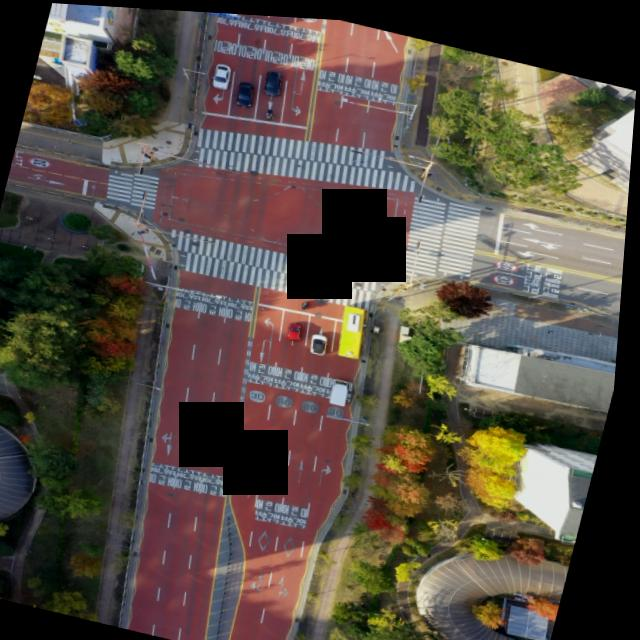car: (211, 58, 234, 86), (235, 78, 258, 105), (266, 66, 286, 91), (313, 329, 335, 351), (290, 317, 308, 338)
large_bus: (340, 298, 375, 353)
small_truck: (331, 371, 360, 403)
